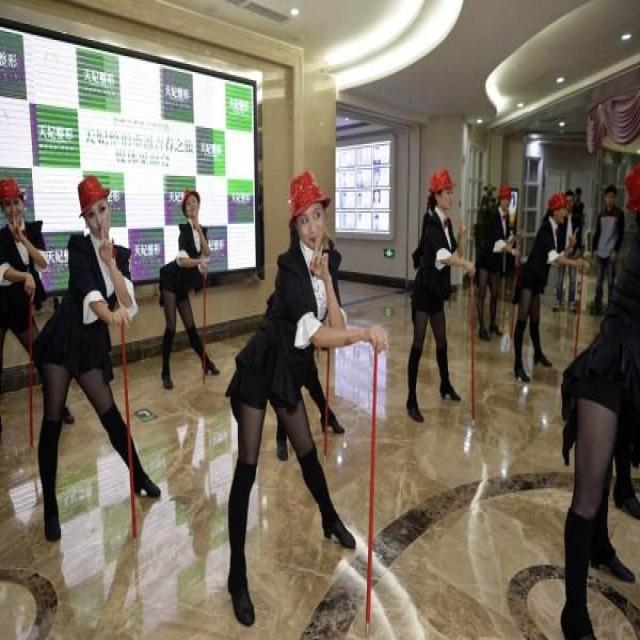non-fight: (226, 171, 388, 627), (30, 176, 161, 545), (560, 156, 640, 628), (1, 182, 64, 438), (408, 168, 472, 420), (509, 193, 584, 385), (156, 188, 219, 388), (476, 184, 516, 340), (589, 188, 624, 314)
